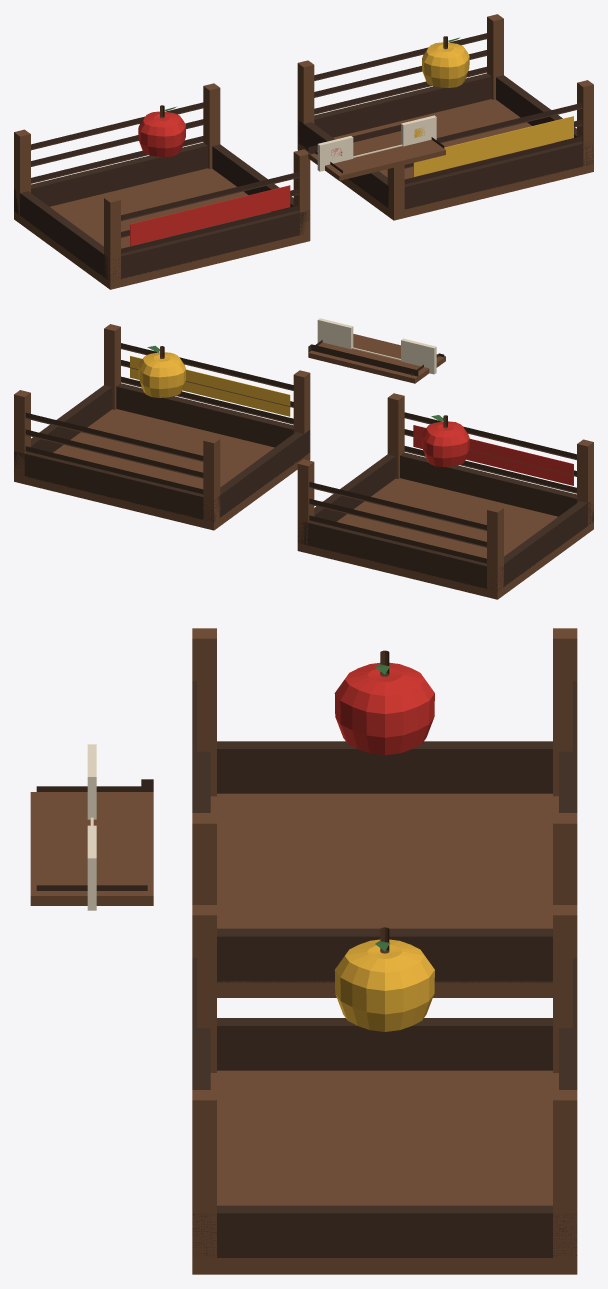
The model's file is apple_serving_prop_assembly.obj.
The picture shows the model from 3 angles, top to bottom: view 1: azimuth 30°, elevation 25°; view 2: azimuth 150°, elevation 25°; view 3: azimuth 270°, elevation 25°; orthographic projection. The views are drawn at different scales.
Visible parts, largest first — view 1: ART003_PROP; view 2: ART003_PROP; view 3: ART003_PROP.
Part boxes in pixels (bbox=[...]): ART003_PROP: bbox=[14, 14, 593, 289]; ART003_PROP: bbox=[14, 318, 593, 599]; ART003_PROP: bbox=[30, 628, 577, 1274].
Size of the model in its own units: 14.5 by 3.55 by 7.1.
